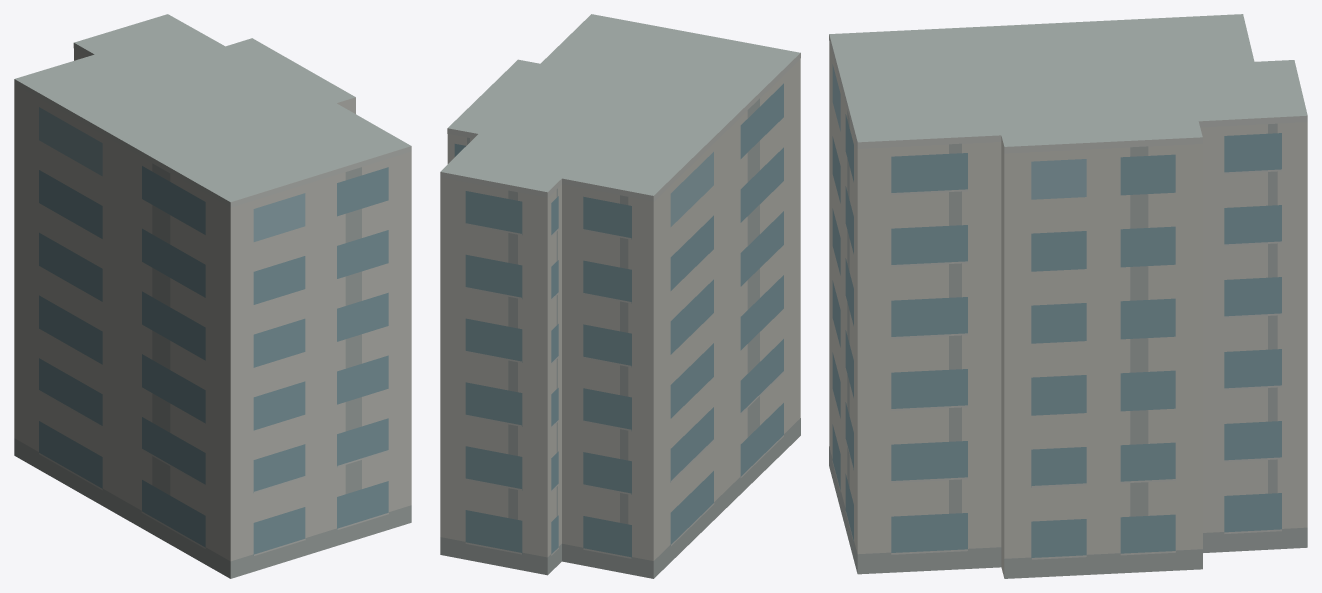
Rendered from survey-upis-32887682.glb.
3 views of the same model, side by side, from view 1: azimuth 30°, elevation 25°; view 2: azimuth 150°, elevation 25°; view 3: azimuth 270°, elevation 25° (orthographic). The views are drawn at different scales.
Parts seen in each view (by area): view 1: survey-upis-32887682.tmp; view 2: survey-upis-32887682.tmp; view 3: survey-upis-32887682.tmp.
Part boxes in pixels (box(x1,y1,x2,y2)): survey-upis-32887682.tmp: box(14, 14, 411, 578); survey-upis-32887682.tmp: box(440, 14, 800, 578); survey-upis-32887682.tmp: box(829, 14, 1307, 578).
Bounding box in the file's own units: 10.83 × 16.4 × 16.48.
